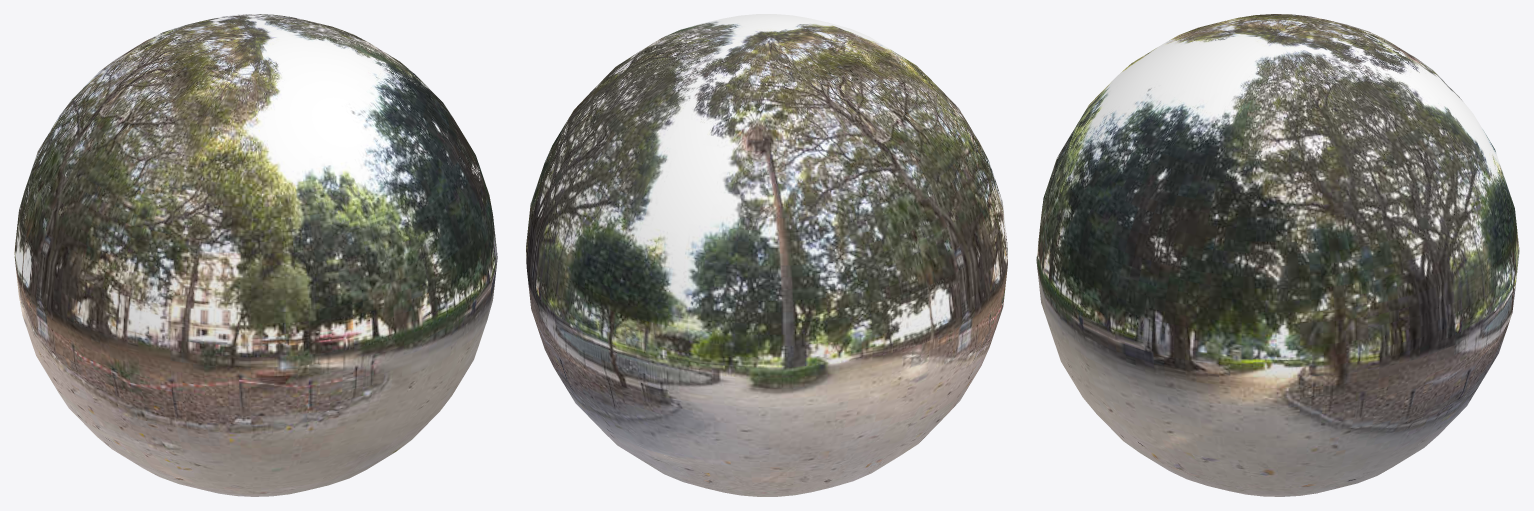
3 renders of one model, left to right at view 1: azimuth 30°, elevation 25°; view 2: azimuth 150°, elevation 25°; view 3: azimuth 270°, elevation 25°, orthographic.
Parts seen in each view (by area): view 1: Outdoors_Esfera; view 2: Outdoors_Esfera; view 3: Outdoors_Esfera.
Part boxes in pixels (bbox=[...]): Outdoors_Esfera: bbox=[14, 14, 497, 496]; Outdoors_Esfera: bbox=[526, 14, 1007, 496]; Outdoors_Esfera: bbox=[1036, 14, 1519, 496].
Size of the model in its own units: 21.5 by 21.52 by 21.5.
Materials: 22 (22 with a texture image).
